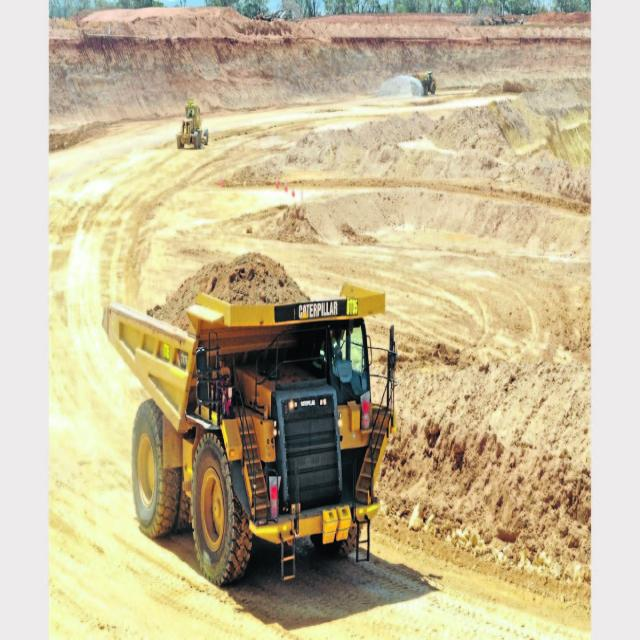dump_truck: (101, 250, 407, 594)
